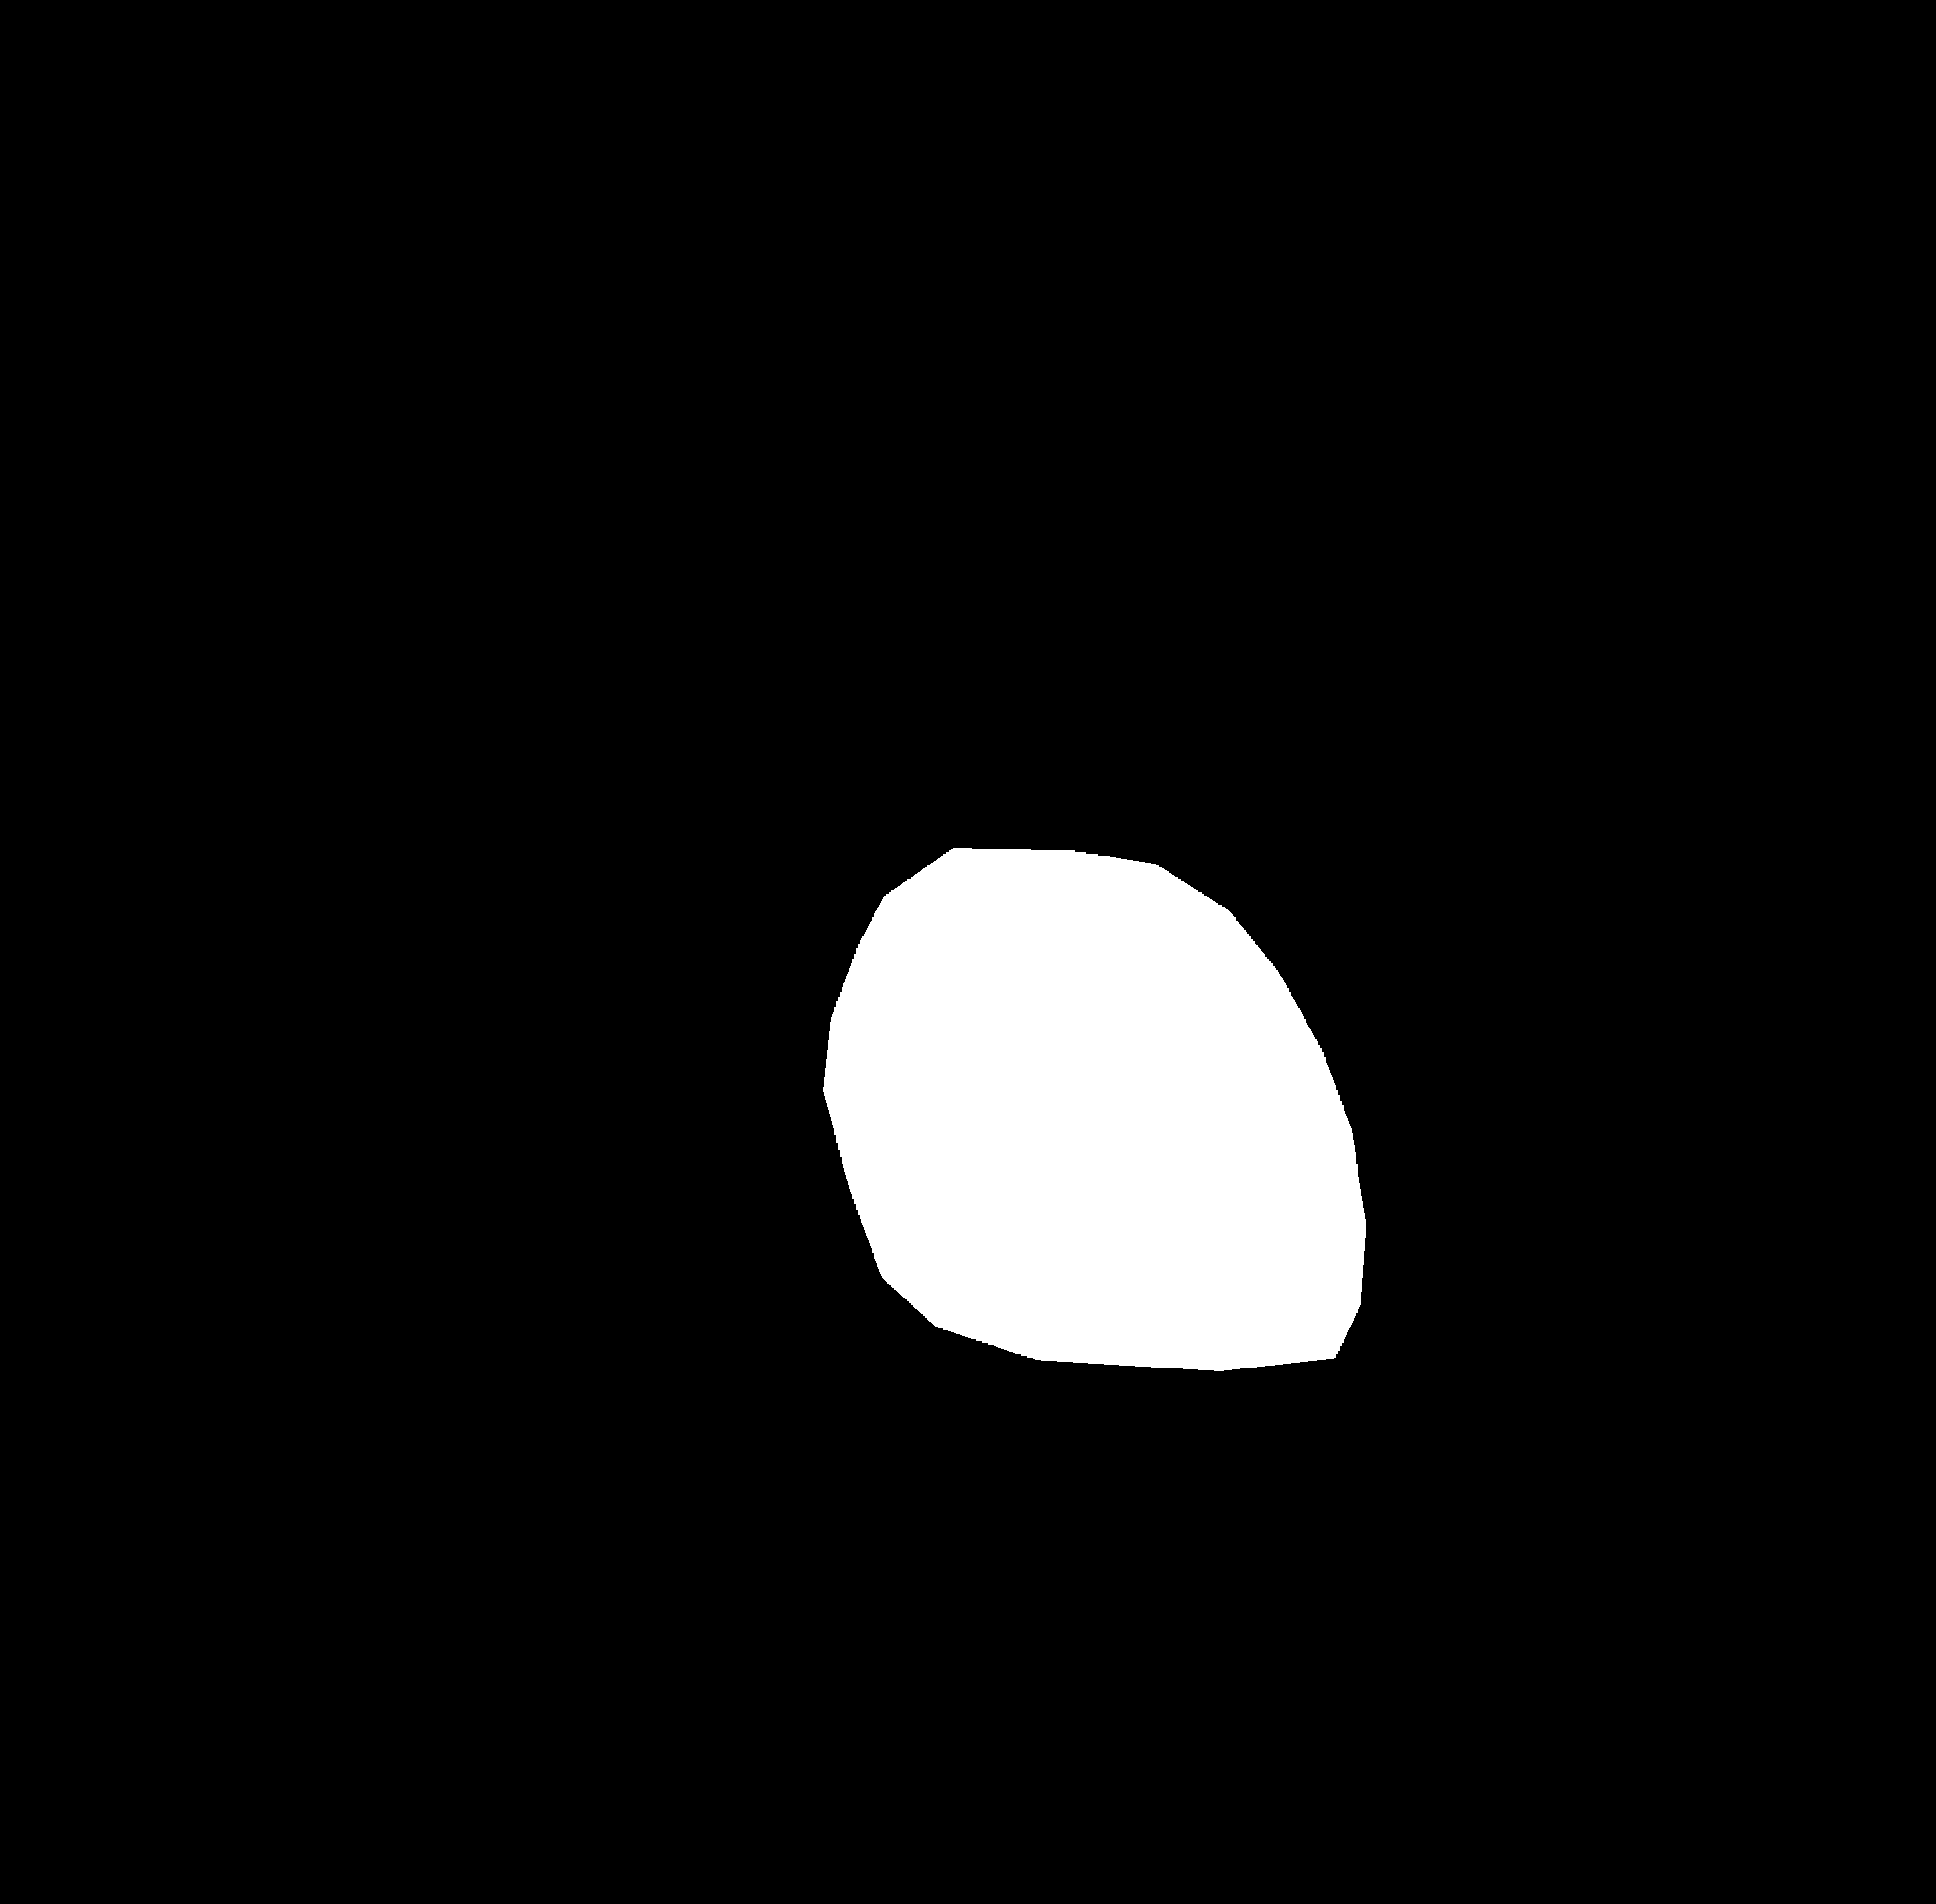heart: (827, 938, 1357, 1377)
left_lung: (370, 282, 940, 1524)
right_lung: (1088, 270, 1631, 1512)
